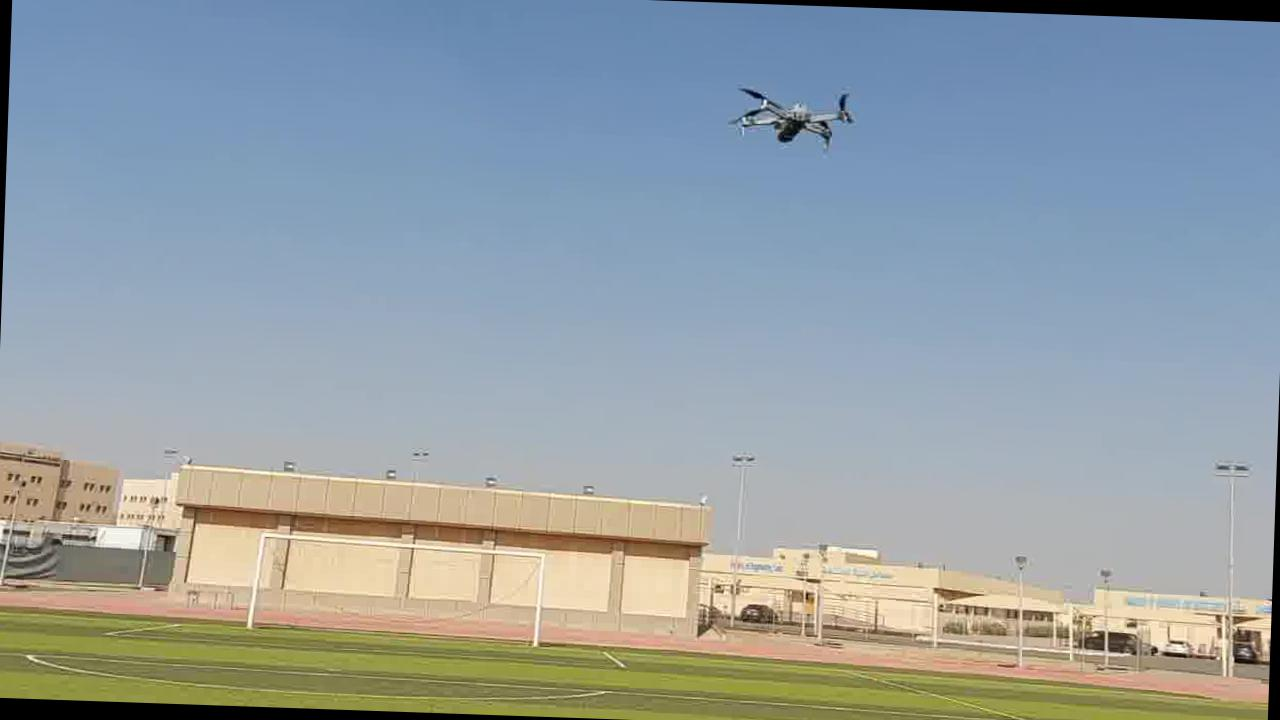drone: (720, 80, 860, 160)
